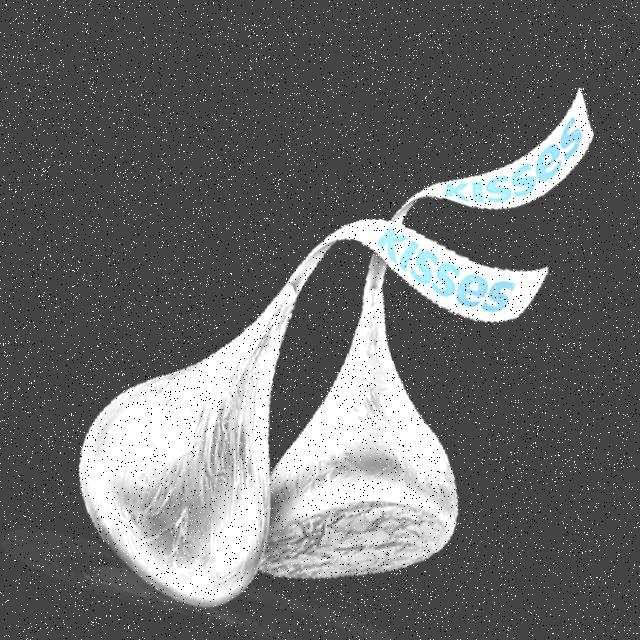kisses: (44, 161, 370, 626), (243, 227, 533, 629)
